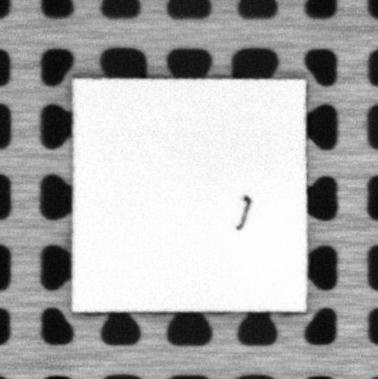DIE_INK: (235, 194, 252, 232)
